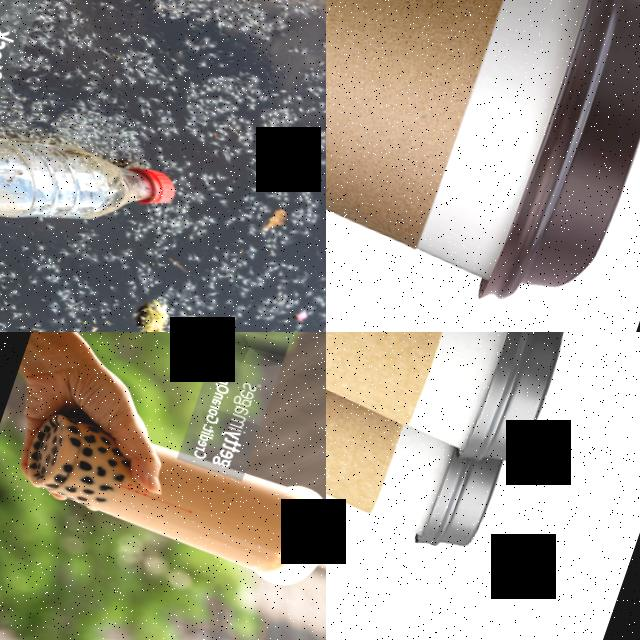cup: (326, 0, 640, 332), (12, 398, 326, 597), (326, 332, 513, 563), (326, 332, 577, 479)
